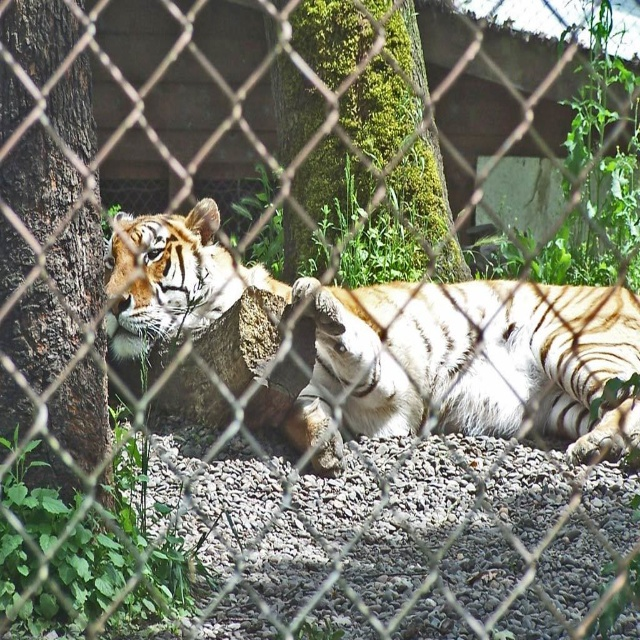Tiger: (103, 197, 640, 478)
